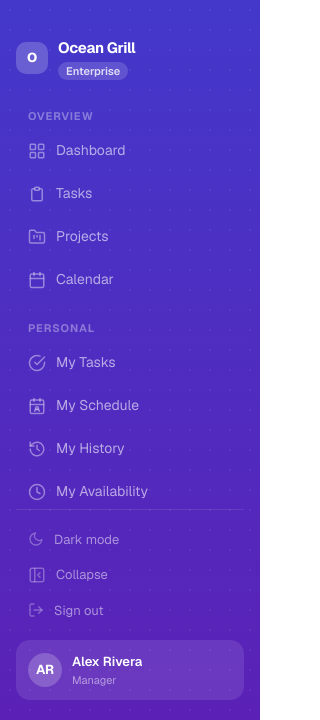
Scenario: collapsing the sidebar › narrows to a rail and back
Click the button with aria-label "Collapse sidebar".
click(130, 575)  # box [16, 557, 244, 592]
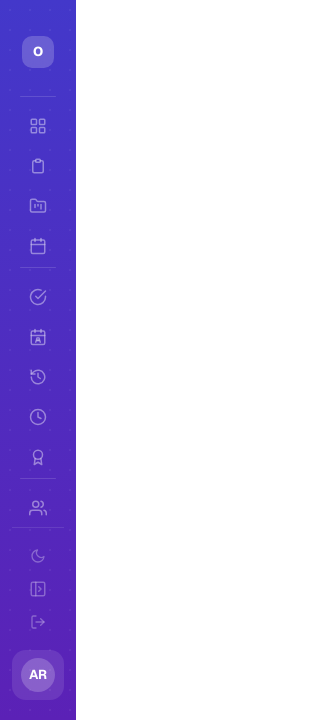
expect the button named "Expand sidebar" is shown: met
Click the button named "Expand sidebar".
click(38, 589)  # box [12, 572, 64, 606]
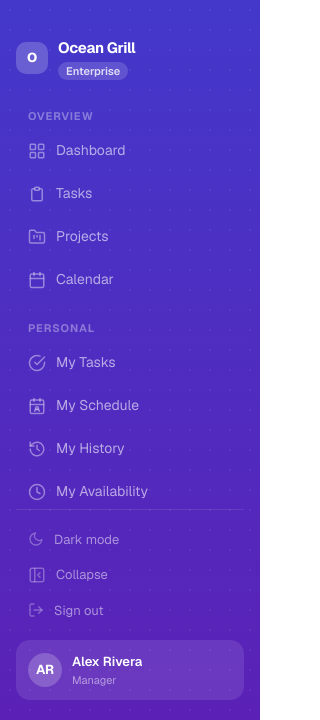
expect the button with aria-label "Collapse sidebar" is shown: met, box [16, 557, 244, 592]
